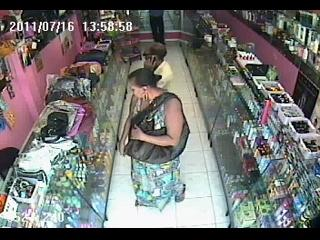Normal: (119, 68, 190, 211), (144, 42, 174, 88), (75, 50, 108, 65)
